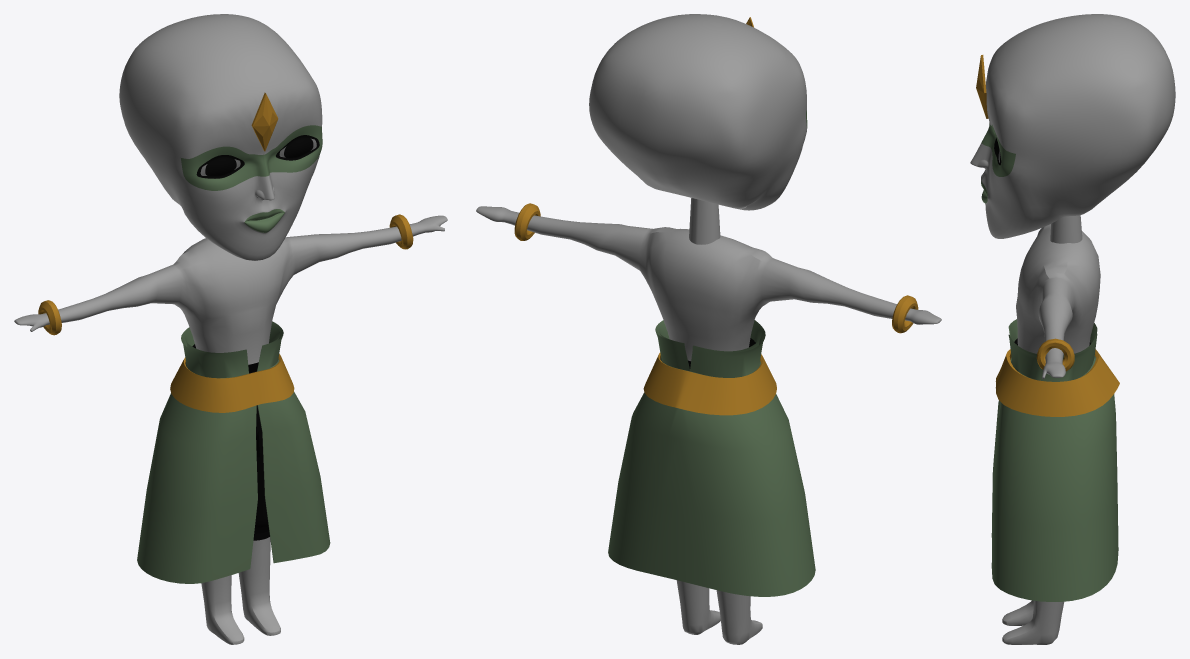
File: Character Male.fbx
3 renders of one model, left to right at view 1: azimuth 30°, elevation 25°; view 2: azimuth 150°, elevation 25°; view 3: azimuth 270°, elevation 25°, orthographic. The views are drawn at different scales.
Parts seen in each view (by area): view 1: Character Male; view 2: Character Male; view 3: Character Male.
Boxes of the visible parts, <box> form: Character Male: <box>14,14,447,644</box>; Character Male: <box>476,14,941,644</box>; Character Male: <box>970,14,1175,644</box>.
Bounding box in the file's own units: 316 × 410 × 126.
